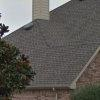Chimney: (27, 2, 58, 23)
